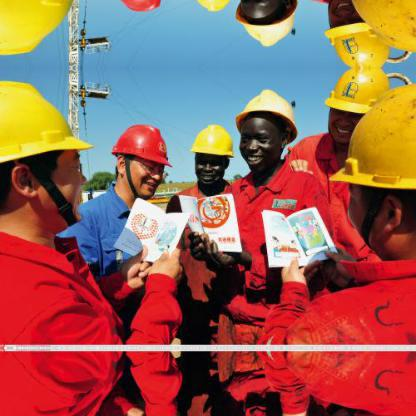helmet: (331, 80, 413, 268), (0, 81, 86, 221), (317, 67, 387, 150), (227, 87, 295, 170), (108, 117, 170, 199), (317, 0, 388, 66), (0, 0, 87, 52), (331, 0, 414, 53), (227, 0, 296, 46), (187, 119, 235, 183), (108, 0, 171, 16), (187, 0, 236, 14)
